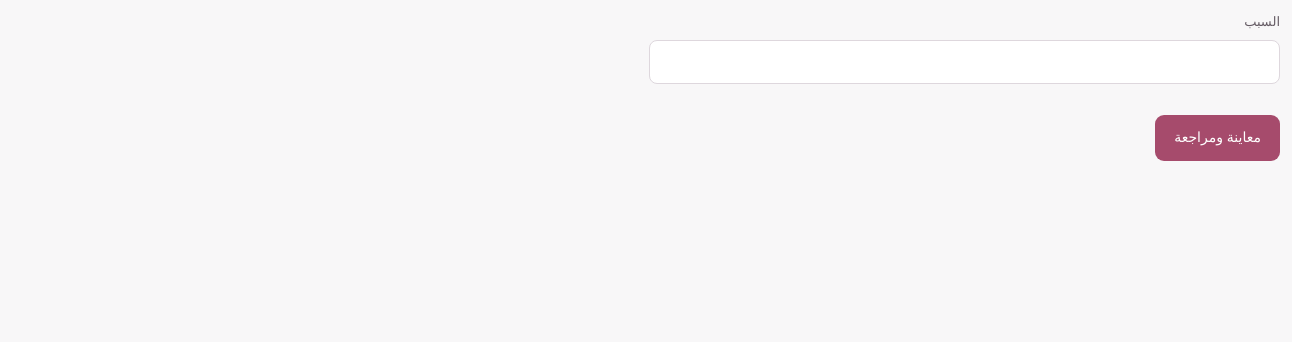
reviews server output before commit and uses different preview/commit identities
In the field labelled "السبب": (964,62) left=649, top=40, right=1280, bottom=84, type "تصحيح"
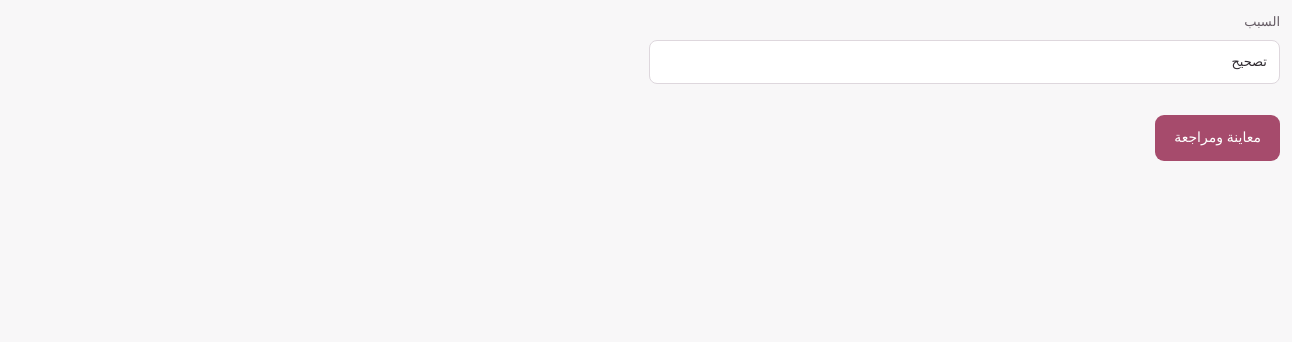
Click the button "معاينة ومراجعة": (1218,138) left=1155, top=115, right=1280, bottom=161
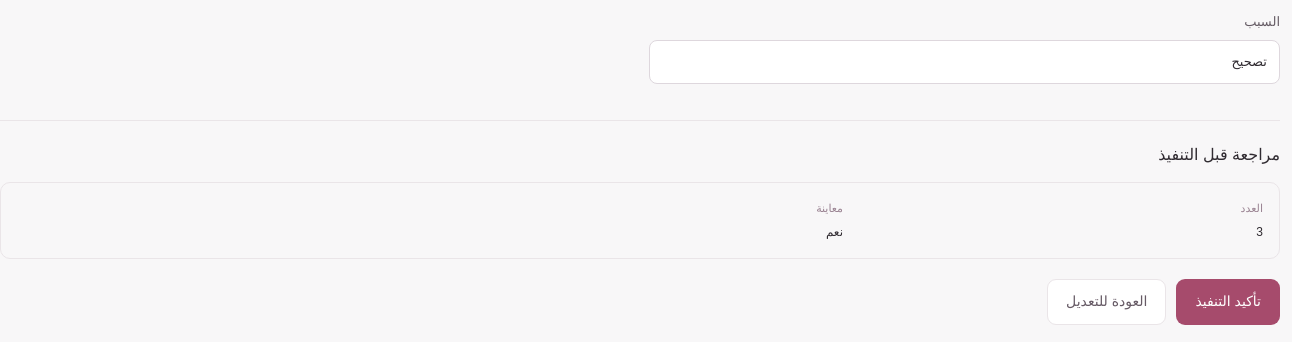
Expected: the button "تأكيد التنفيذ" is shown
Click the button "تأكيد التنفيذ": (1228,302) left=1176, top=280, right=1280, bottom=325
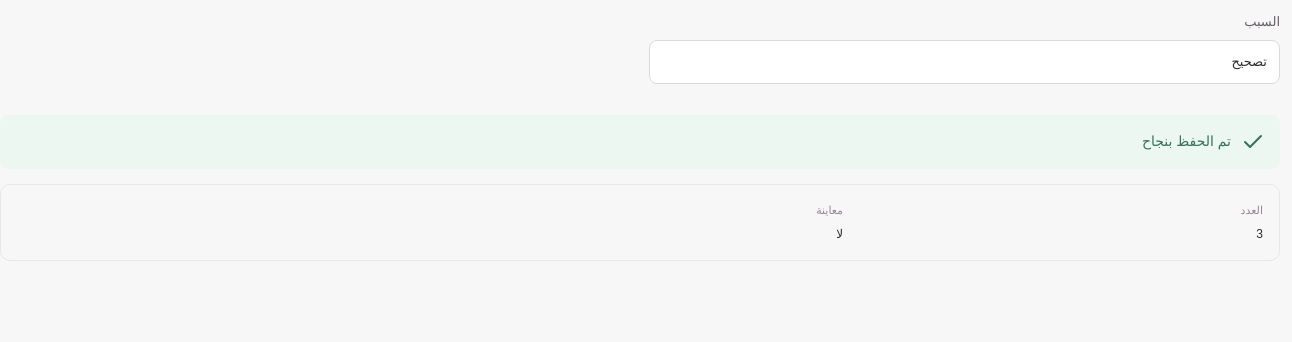
Expected: the text "تم الحفظ بنجاح" is shown, left=0, top=115, right=1280, bottom=169
